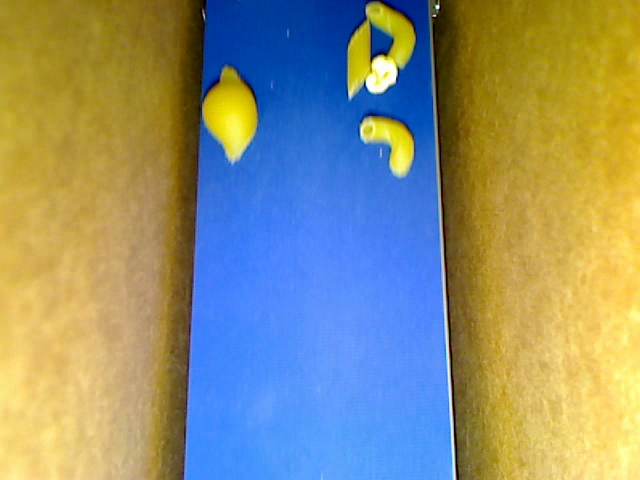elbow: (365, 2, 416, 69), (359, 116, 413, 178)
penne: (346, 18, 371, 100)
shell: (200, 64, 259, 165)
